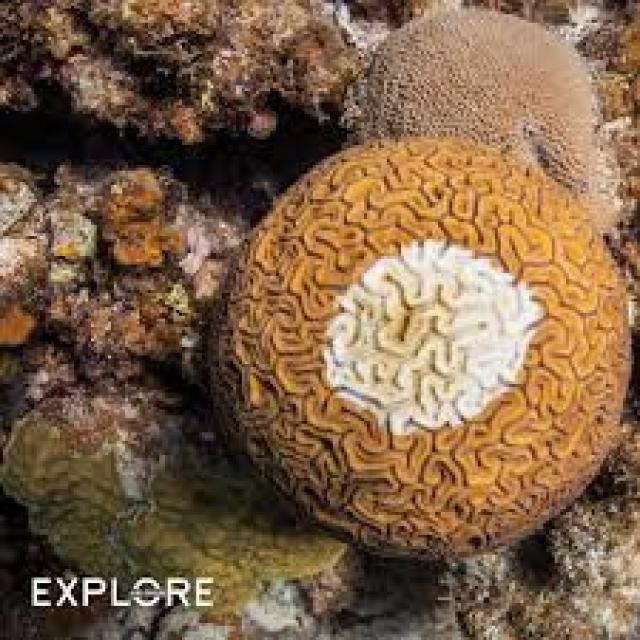Coral: (208, 133, 636, 562), (0, 410, 350, 624), (338, 5, 626, 239)
